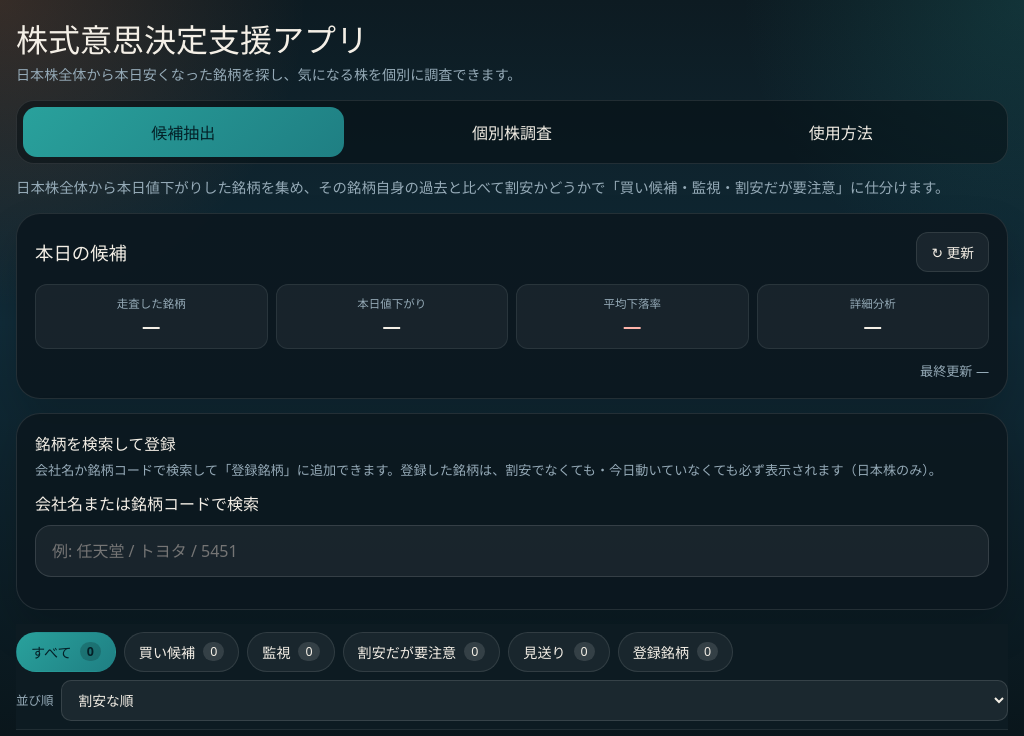
Scenario: App › 米国株の結果には登録ボタンを出さない（候補一覧は日本株専用）
Click the tab "個別株調査" at (512, 132), box [352, 107, 672, 157]
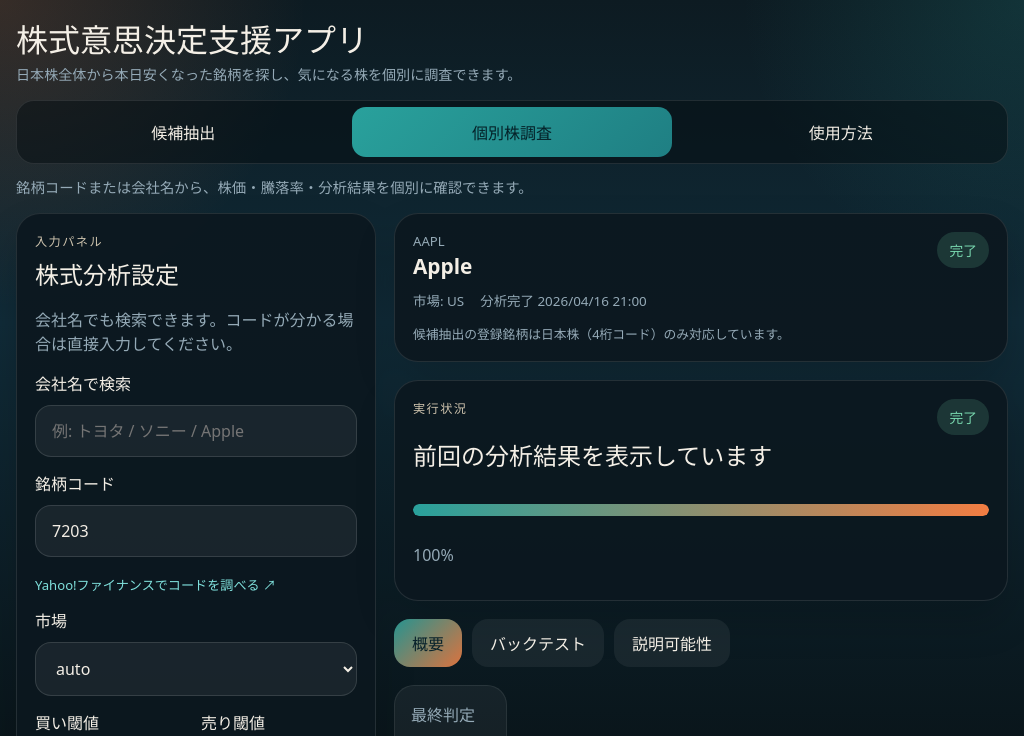
Check: the text "候補抽出の登録銘柄は日本株（4桁コード）のみ対応しています。" is shown, box [413, 325, 790, 343]
